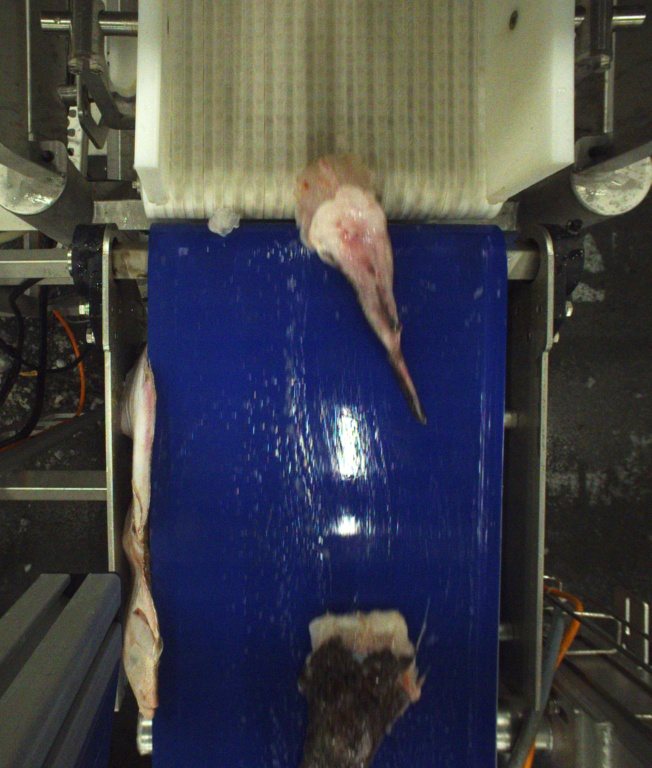ANF: (295, 609, 429, 768)
